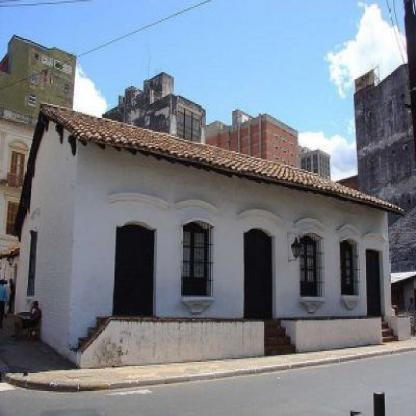Building Outline: (12, 101, 412, 369)
Cornice: (107, 193, 167, 211), (236, 209, 283, 225), (173, 198, 219, 214), (293, 218, 324, 232), (363, 232, 387, 244), (335, 225, 361, 236)
Dont: (9, 300, 42, 341)
Door: (112, 223, 154, 316), (243, 229, 272, 319), (366, 250, 381, 316)
Door Hole: (181, 220, 214, 297)
Facade: (68, 141, 392, 358)
Floor Slab: (70, 315, 395, 322)
Ground Floor: (70, 141, 391, 316)
Roof: (12, 101, 406, 237)
Sill: (180, 297, 215, 313), (300, 297, 328, 312), (341, 295, 361, 311)
Window: (181, 222, 208, 297), (300, 236, 317, 297), (340, 239, 353, 295)
Window Hole: (300, 233, 323, 297), (340, 239, 359, 295)
